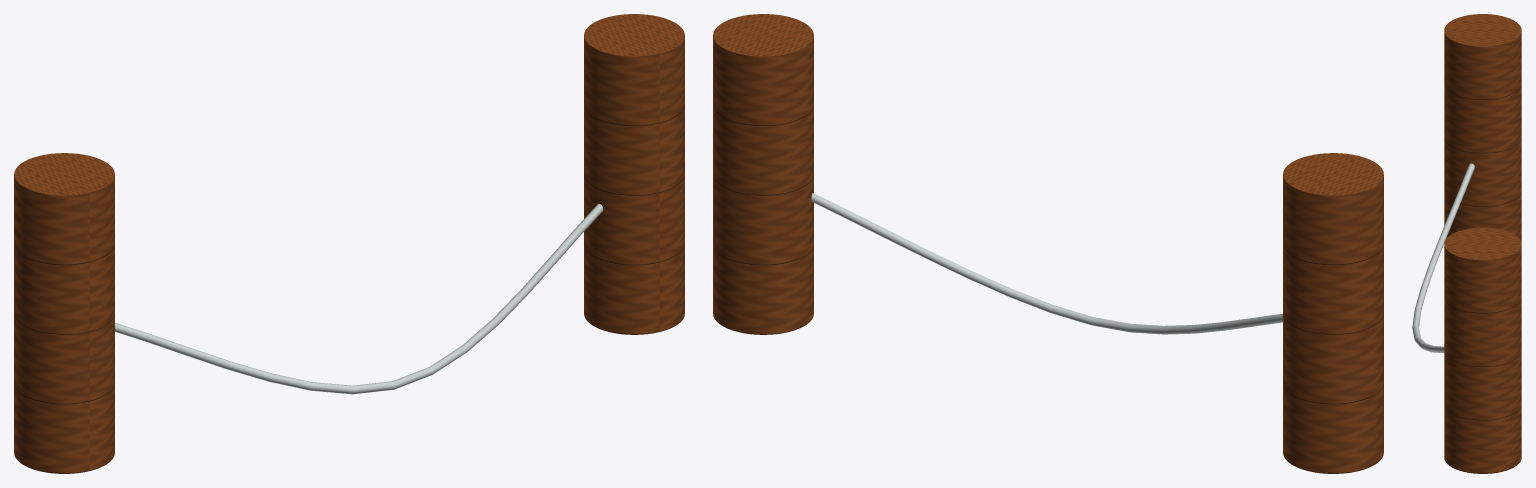
File: ceramics-pottery-studio-clay-wire-cutter-0e818936__29498.glb
The picture shows the model from 3 angles, left to right: view 1: azimuth 30°, elevation 25°; view 2: azimuth 150°, elevation 25°; view 3: azimuth 270°, elevation 25°; orthographic projection. The views are drawn at different scales.
Visible parts, largest first — view 1: clay-wire-cutter; view 2: clay-wire-cutter; view 3: clay-wire-cutter.
Part boxes in pixels (bbox=[...]): clay-wire-cutter: bbox=[14, 14, 684, 473]; clay-wire-cutter: bbox=[713, 14, 1383, 473]; clay-wire-cutter: bbox=[1412, 14, 1521, 473].
Bounding box in the file's own units: 0.346 × 0.14 × 0.065.
Materials: 2 (1 with a texture image).
